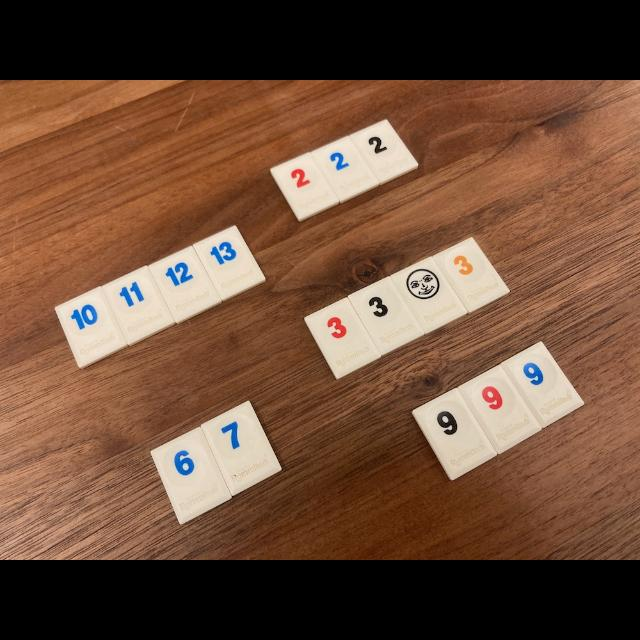black_2: (350, 120, 418, 185)
black_3: (349, 276, 424, 355)
black_9: (413, 389, 496, 480)
blue_10: (55, 286, 126, 368)
blue_11: (104, 266, 175, 345)
blue_12: (149, 246, 221, 324)
blue_13: (192, 225, 265, 300)
blue_2: (312, 136, 379, 202)
blue_6: (151, 428, 231, 524)
blue_7: (201, 401, 281, 496)
blue_9: (501, 342, 584, 426)
joker: (392, 258, 468, 334)
orange_3: (434, 238, 509, 312)
red_2: (270, 152, 339, 221)
red_3: (305, 298, 381, 379)
red_9: (459, 365, 541, 454)
